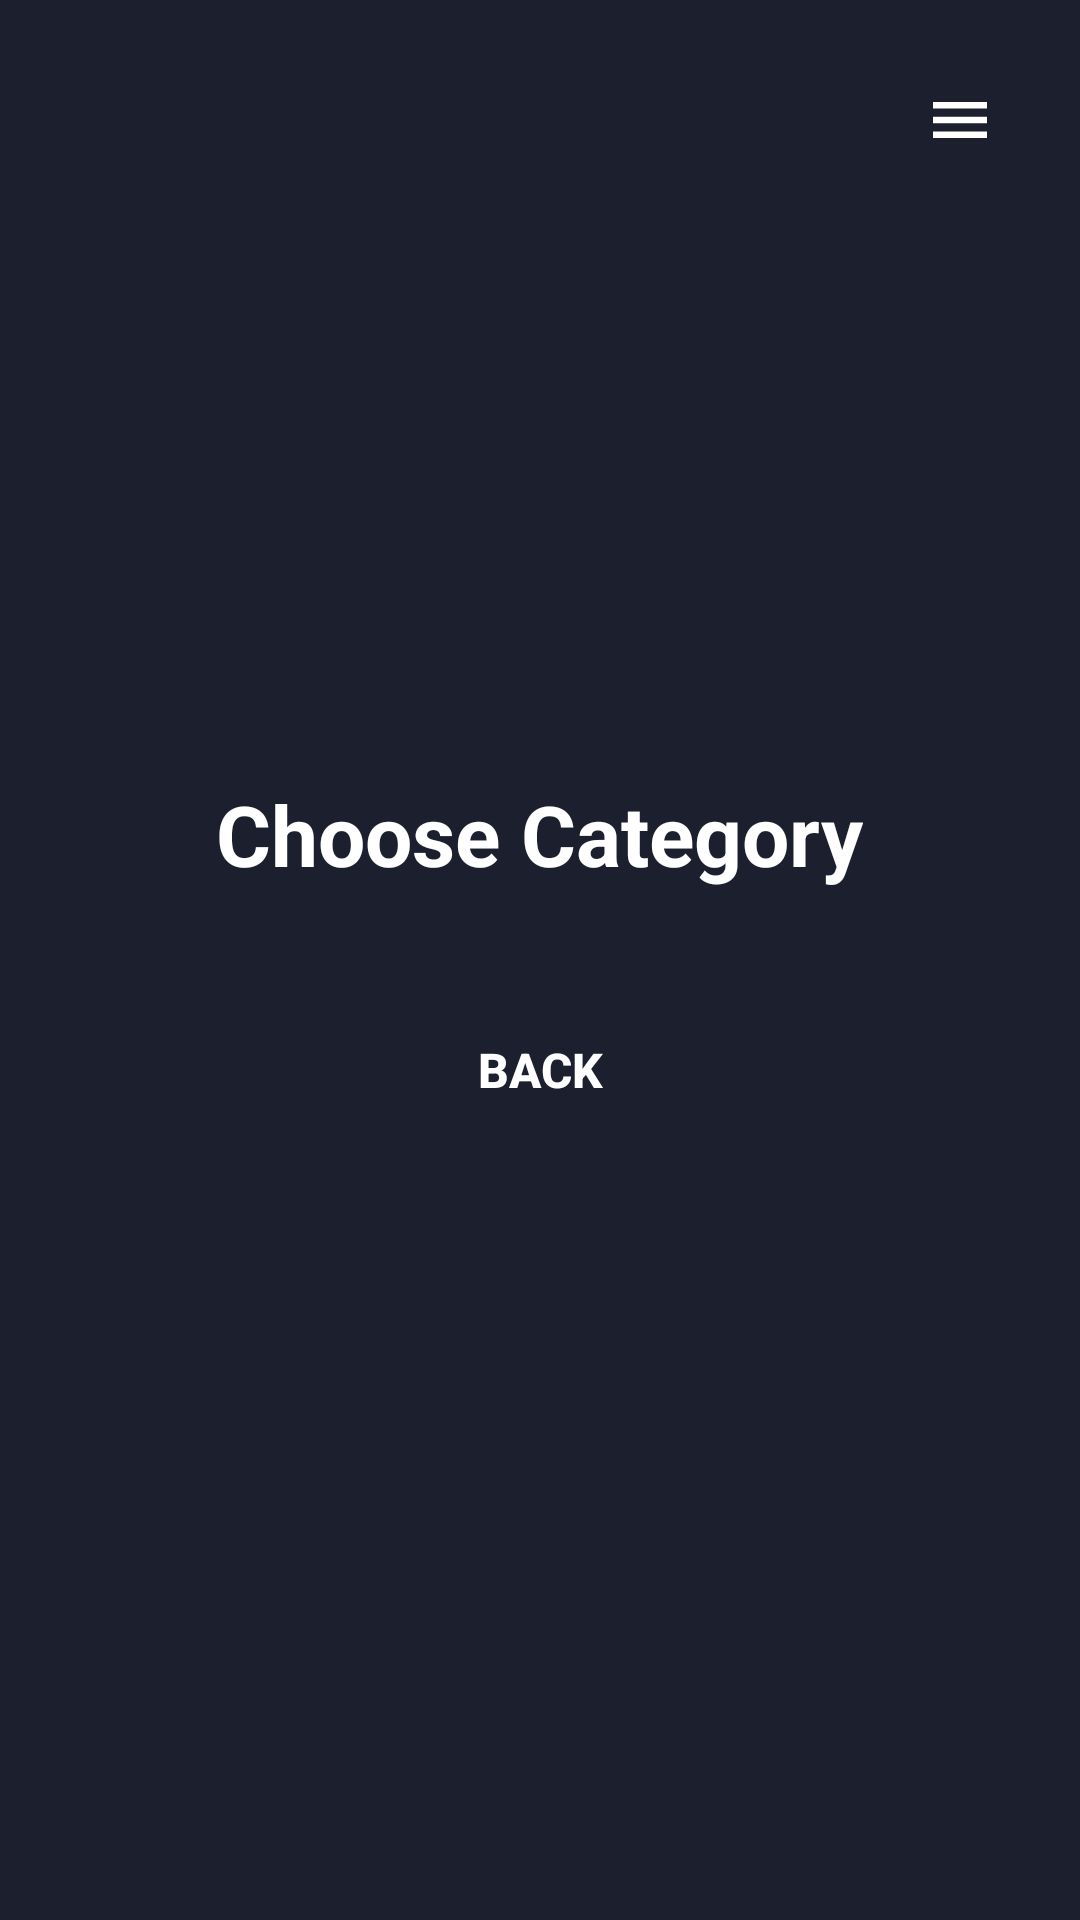

Point at icon controls on the screen. Image size 1080×1920, points as (x,y).
Open menu: (960,120)
